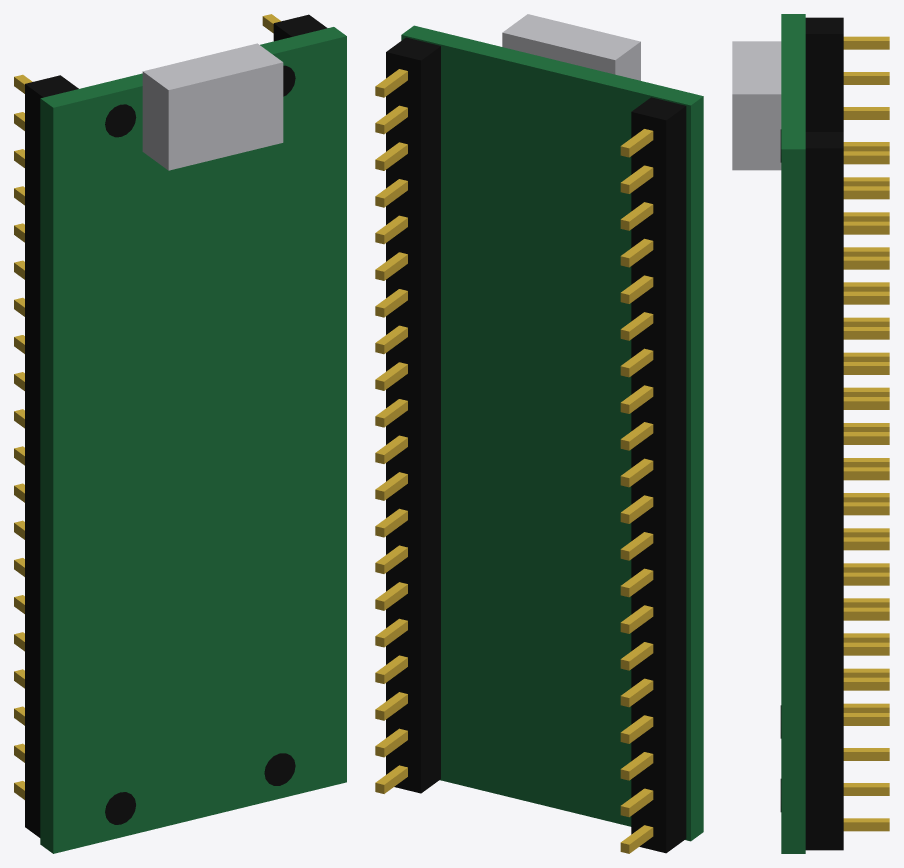
The model's file is mod-pico.glb.
3 views of the same model, side by side, from view 1: azimuth 30°, elevation 25°; view 2: azimuth 150°, elevation 25°; view 3: azimuth 270°, elevation 25° (orthographic). The views are drawn at different scales.
Parts seen in each view (by area): view 1: PCB-PI, MET-PORT, HEADER, HOLE (×3); view 2: PCB-PI, HEADER, MET-PORT; view 3: HEADER, MET-PIN (×40), PCB-PI, MET-PORT.
Part boxes in pixels (bbox=[...]): PCB-PI: bbox=[40, 27, 346, 853]; MET-PORT: bbox=[142, 43, 283, 170]; HEADER: bbox=[25, 14, 327, 837]; HOLE (×3): bbox=[105, 104, 295, 824]; PCB-PI: bbox=[401, 25, 703, 841]; HEADER: bbox=[386, 37, 686, 853]; MET-PORT: bbox=[502, 14, 640, 80]; HEADER: bbox=[805, 17, 843, 850]; MET-PIN (×40): bbox=[843, 36, 889, 831]; PCB-PI: bbox=[781, 14, 805, 853]; MET-PORT: bbox=[732, 41, 781, 170].
Size of the model in its own units: 21 by 52 by 10.3.
